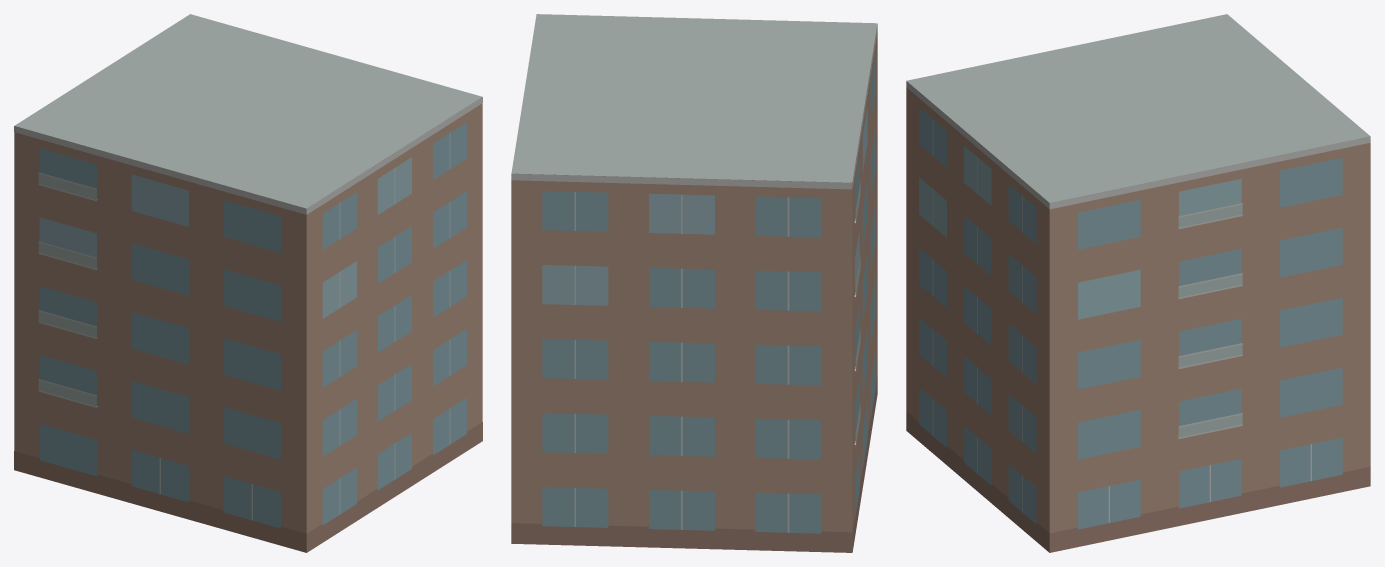
Rendered from survey-upis-32708351.glb.
The picture shows the model from 3 angles, left to right: view 1: azimuth 30°, elevation 25°; view 2: azimuth 150°, elevation 25°; view 3: azimuth 270°, elevation 25°; orthographic projection. The views are drawn at different scales.
Parts seen in each view (by area): view 1: survey-upis-32708351.tmp; view 2: survey-upis-32708351.tmp; view 3: survey-upis-32708351.tmp.
Boxes of the visible parts, x1,y1,x2,y2 form: survey-upis-32708351.tmp: [14, 14, 482, 552]; survey-upis-32708351.tmp: [511, 14, 877, 552]; survey-upis-32708351.tmp: [906, 14, 1370, 552].
Bounding box in the file's own units: 15.59 × 13.45 × 16.19.
